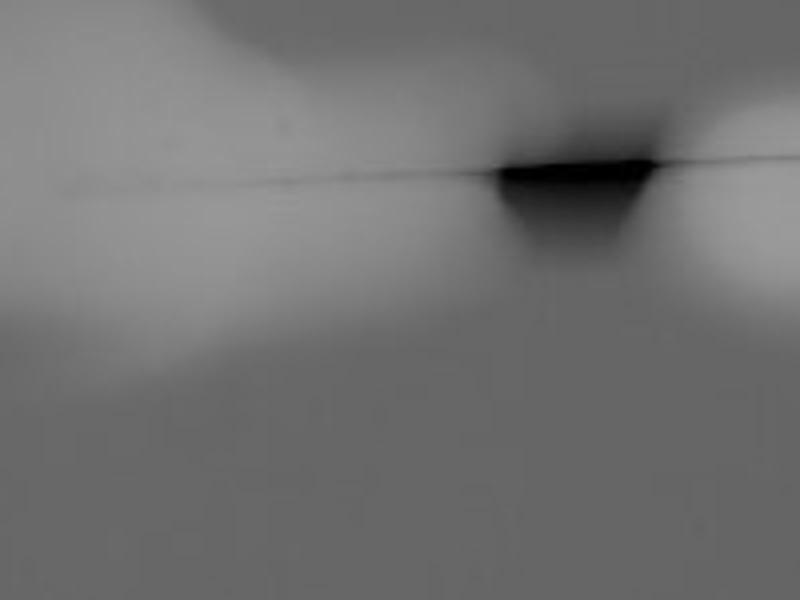defect: (495, 165, 655, 228)
